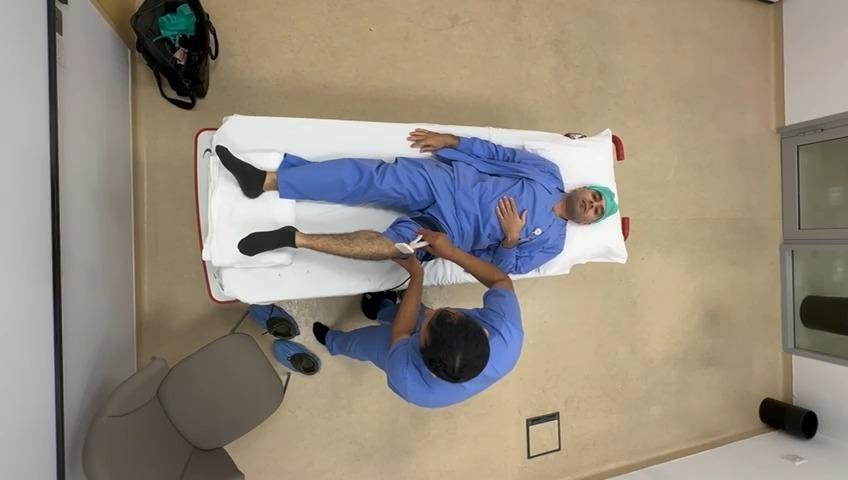bed: (197, 119, 631, 306)
patient: (275, 129, 614, 274)
prepstick: (394, 235, 429, 254)
tourniquet: (412, 217, 446, 233)
